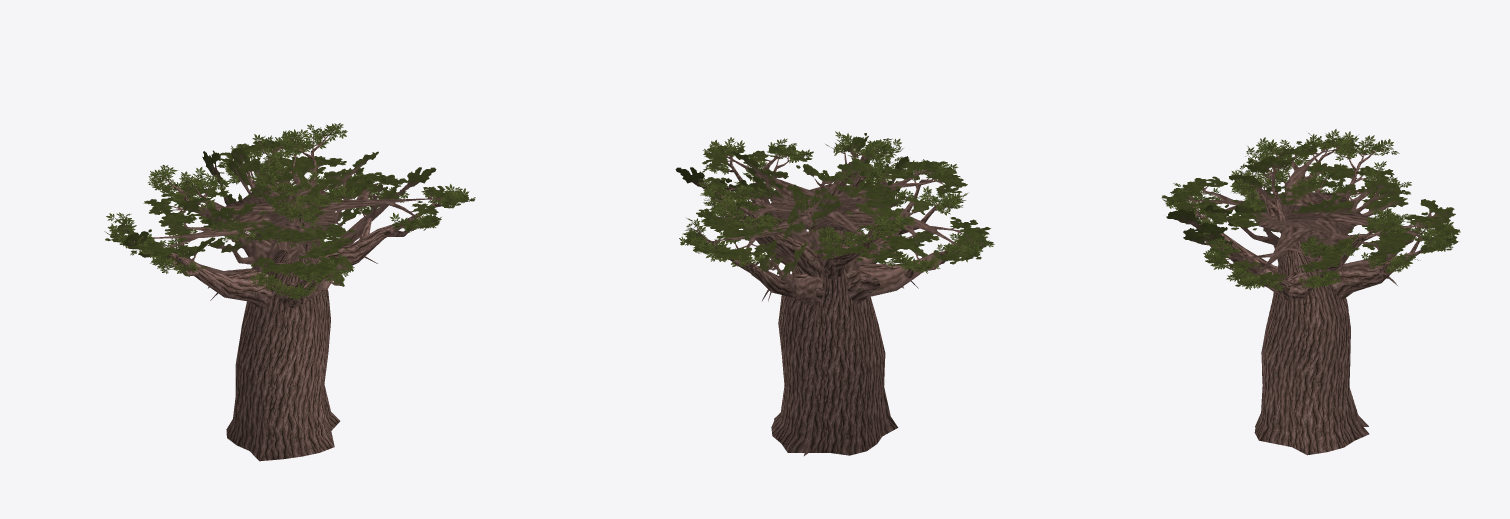
Rendered from Baoba_Africano.glb.
3 renders of one model, left to right at view 1: azimuth 30°, elevation 25°; view 2: azimuth 150°, elevation 25°; view 3: azimuth 270°, elevation 25°, orthographic. The views are drawn at different scales.
Parts seen in each view (by area): view 1: Baoba_Africano impostor, Tronco, Folhas palmadas, Bracos principais, Ramos bifurcados, Ponteiras; view 2: Baoba_Africano impostor, Tronco, Folhas palmadas, Bracos principais, Ramos bifurcados, Ponteiras; view 3: Baoba_Africano impostor, Tronco, Folhas palmadas, Bracos principais, Ramos bifurcados, Ponteiras, Ramos finos.
Part boxes in pixels (x1,y1,x2,y2): Baoba_Africano impostor: (105, 139, 474, 455); Tronco: (226, 244, 340, 461); Folhas palmadas: (104, 123, 475, 299); Bracos principais: (179, 176, 403, 308); Ramos bifurcados: (168, 152, 435, 298); Ponteiras: (111, 128, 469, 296); Baoba_Africano impostor: (675, 133, 993, 455); Tronco: (771, 237, 898, 455); Folhas palmadas: (679, 131, 994, 273); Bracos principais: (736, 178, 933, 305); Ramos bifurcados: (713, 155, 947, 279); Ponteiras: (687, 139, 978, 269); Baoba_Africano impostor: (1162, 138, 1459, 426); Tronco: (1254, 246, 1369, 455); Folhas palmadas: (1161, 129, 1460, 290); Bracos principais: (1220, 190, 1411, 300); Ramos bifurcados: (1195, 156, 1426, 296); Ponteiras: (1165, 137, 1451, 287); Ramos finos: (1187, 146, 1434, 284).
Size of what is drawn, in the model's own units: 18.67 by 18.67 by 18.67.
Materials: 3 (3 with a texture image).
